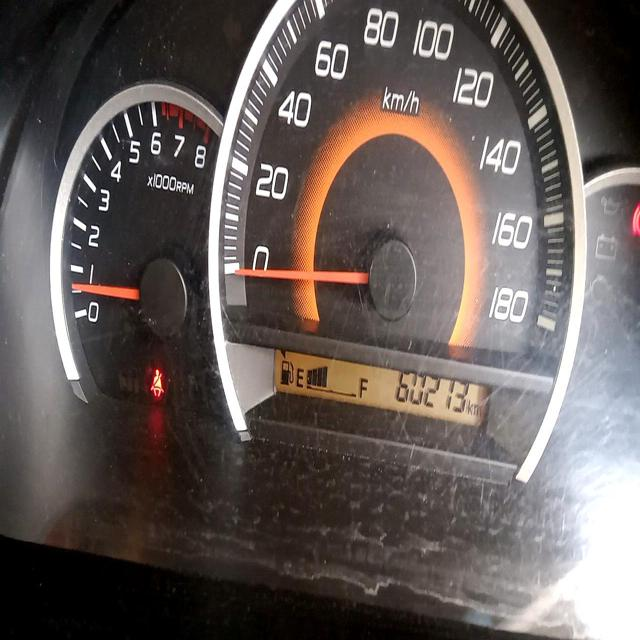odometer: (393, 362, 470, 416)
